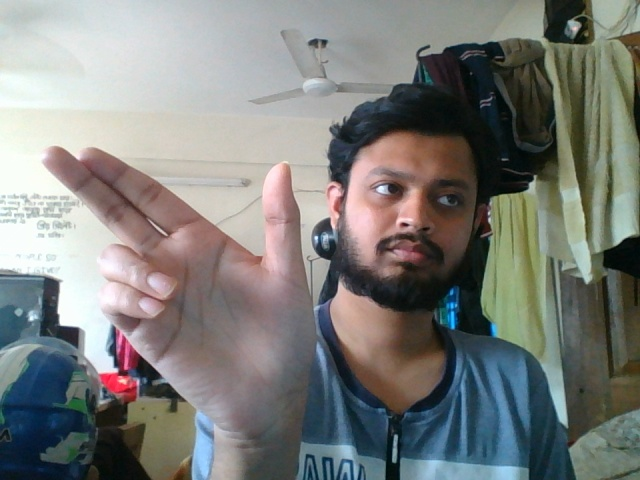jha: (34, 137, 334, 424)
